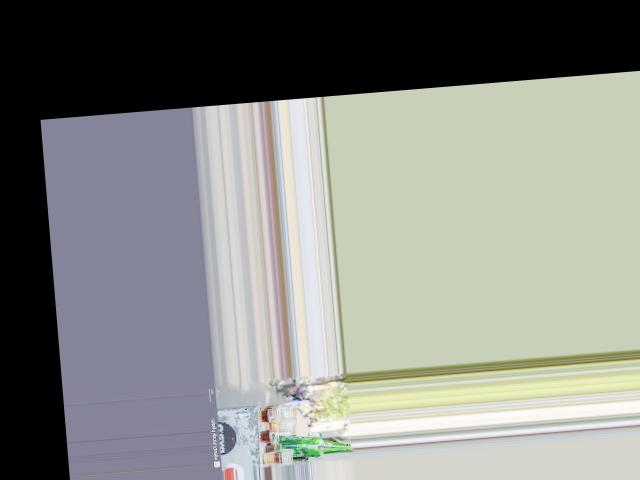beer: (268, 429, 351, 460)
